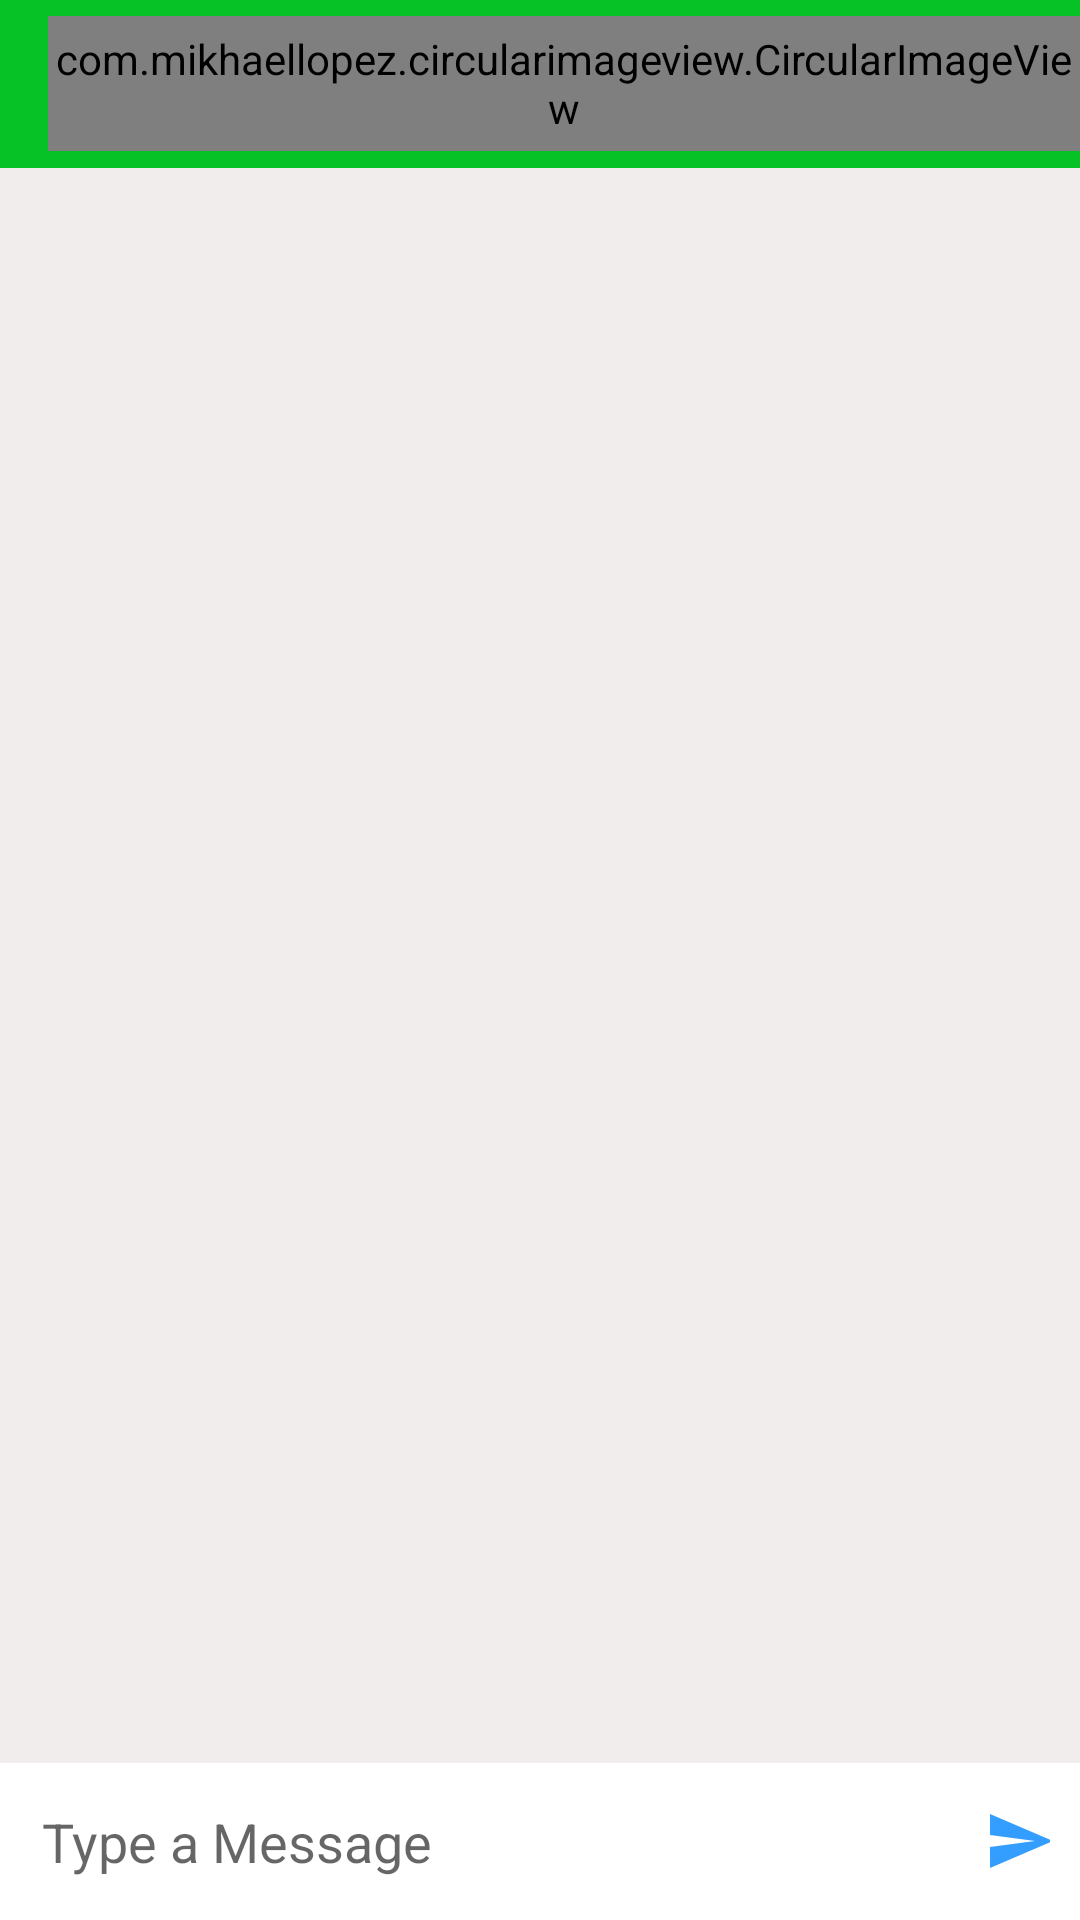

Icon click points for this 1080px x 1920px phone screenshot, format (x,y):
send: (1020,1841)
